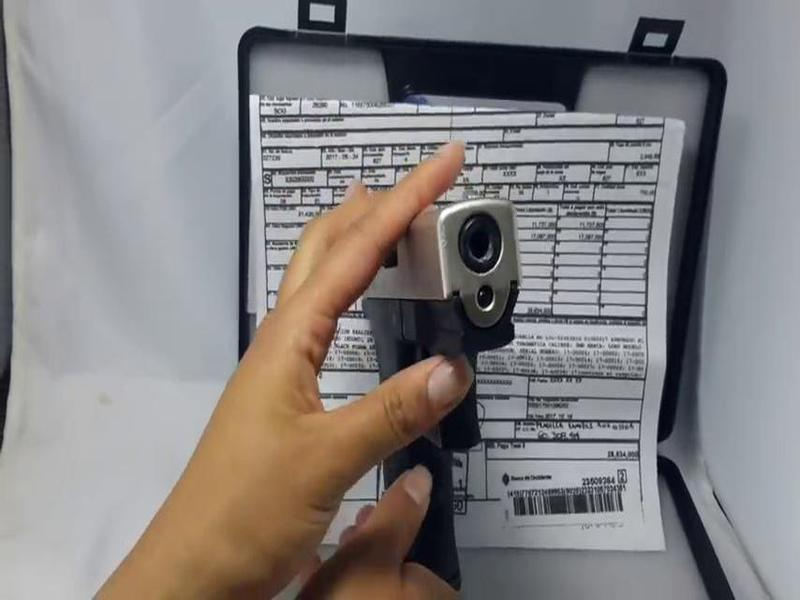Pistola: (311, 165, 508, 577)
